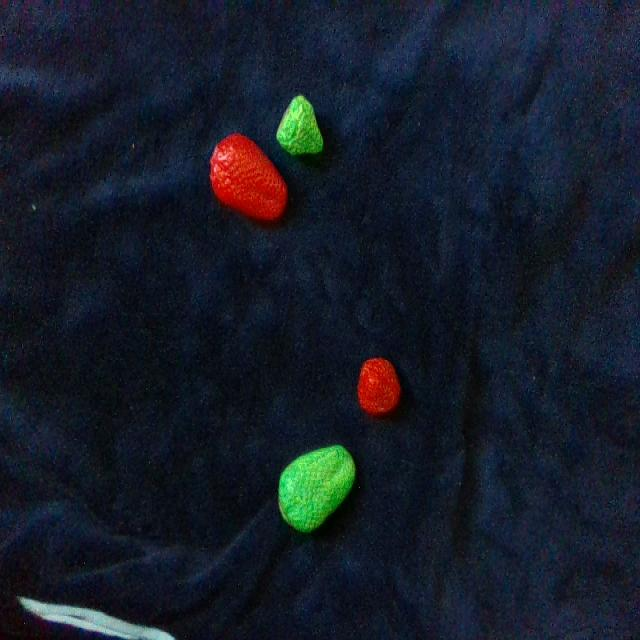chica_roja: (358, 359, 400, 415)
grande_roja: (210, 133, 285, 220)
verde: (279, 445, 355, 531), (277, 95, 322, 153)
